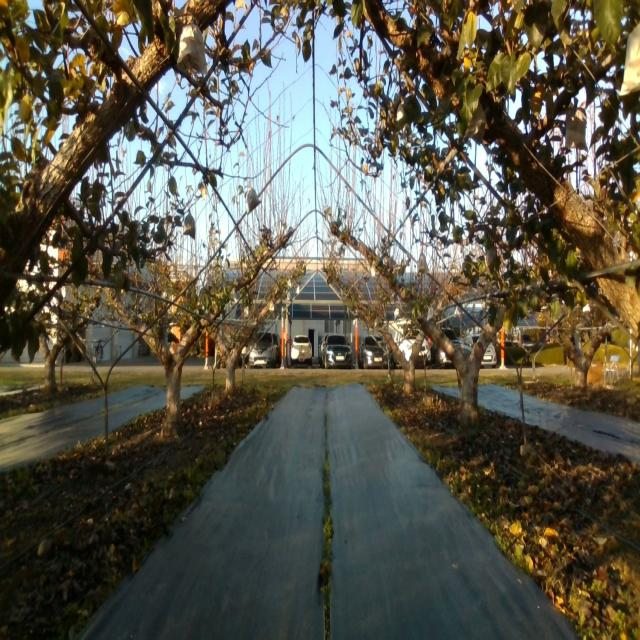pearbags: (177, 23, 208, 75), (565, 107, 588, 151), (245, 188, 261, 215), (183, 209, 196, 238), (418, 253, 428, 273)
